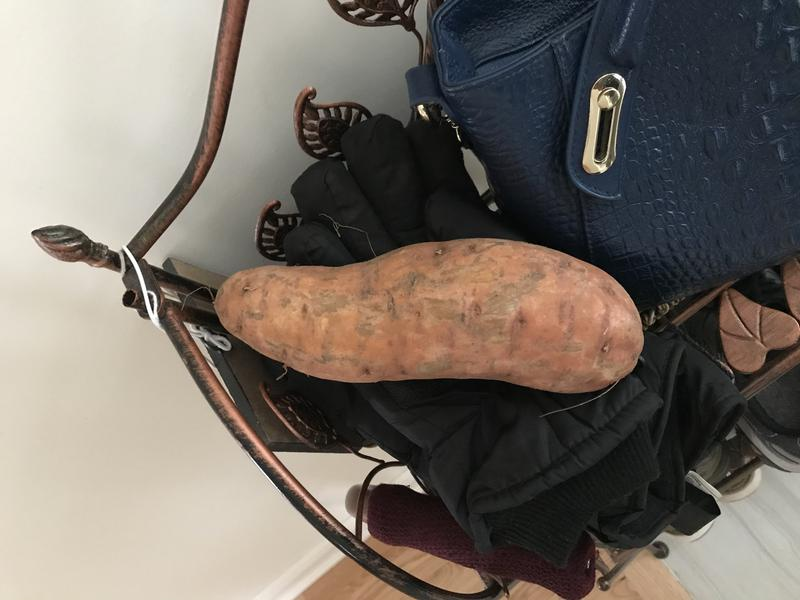sweet_potato: (203, 228, 655, 407)
